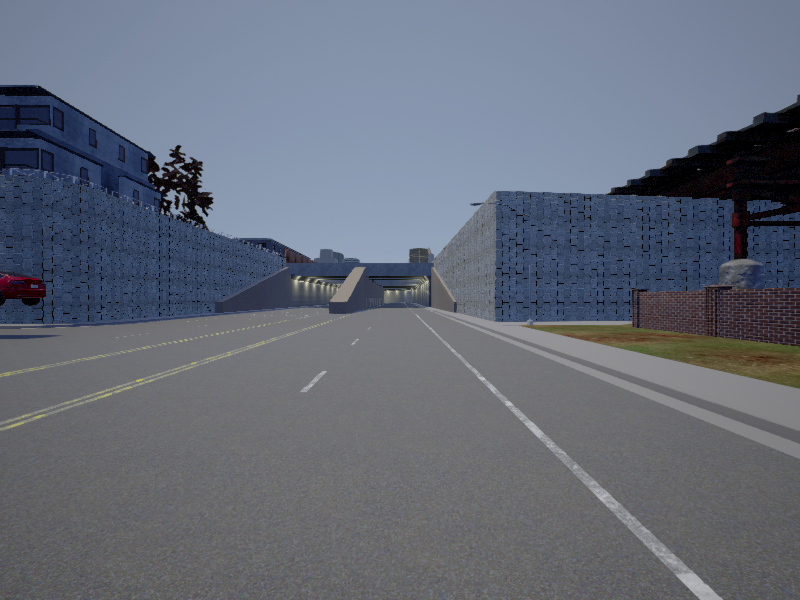Attacker: (1, 272, 45, 305)
